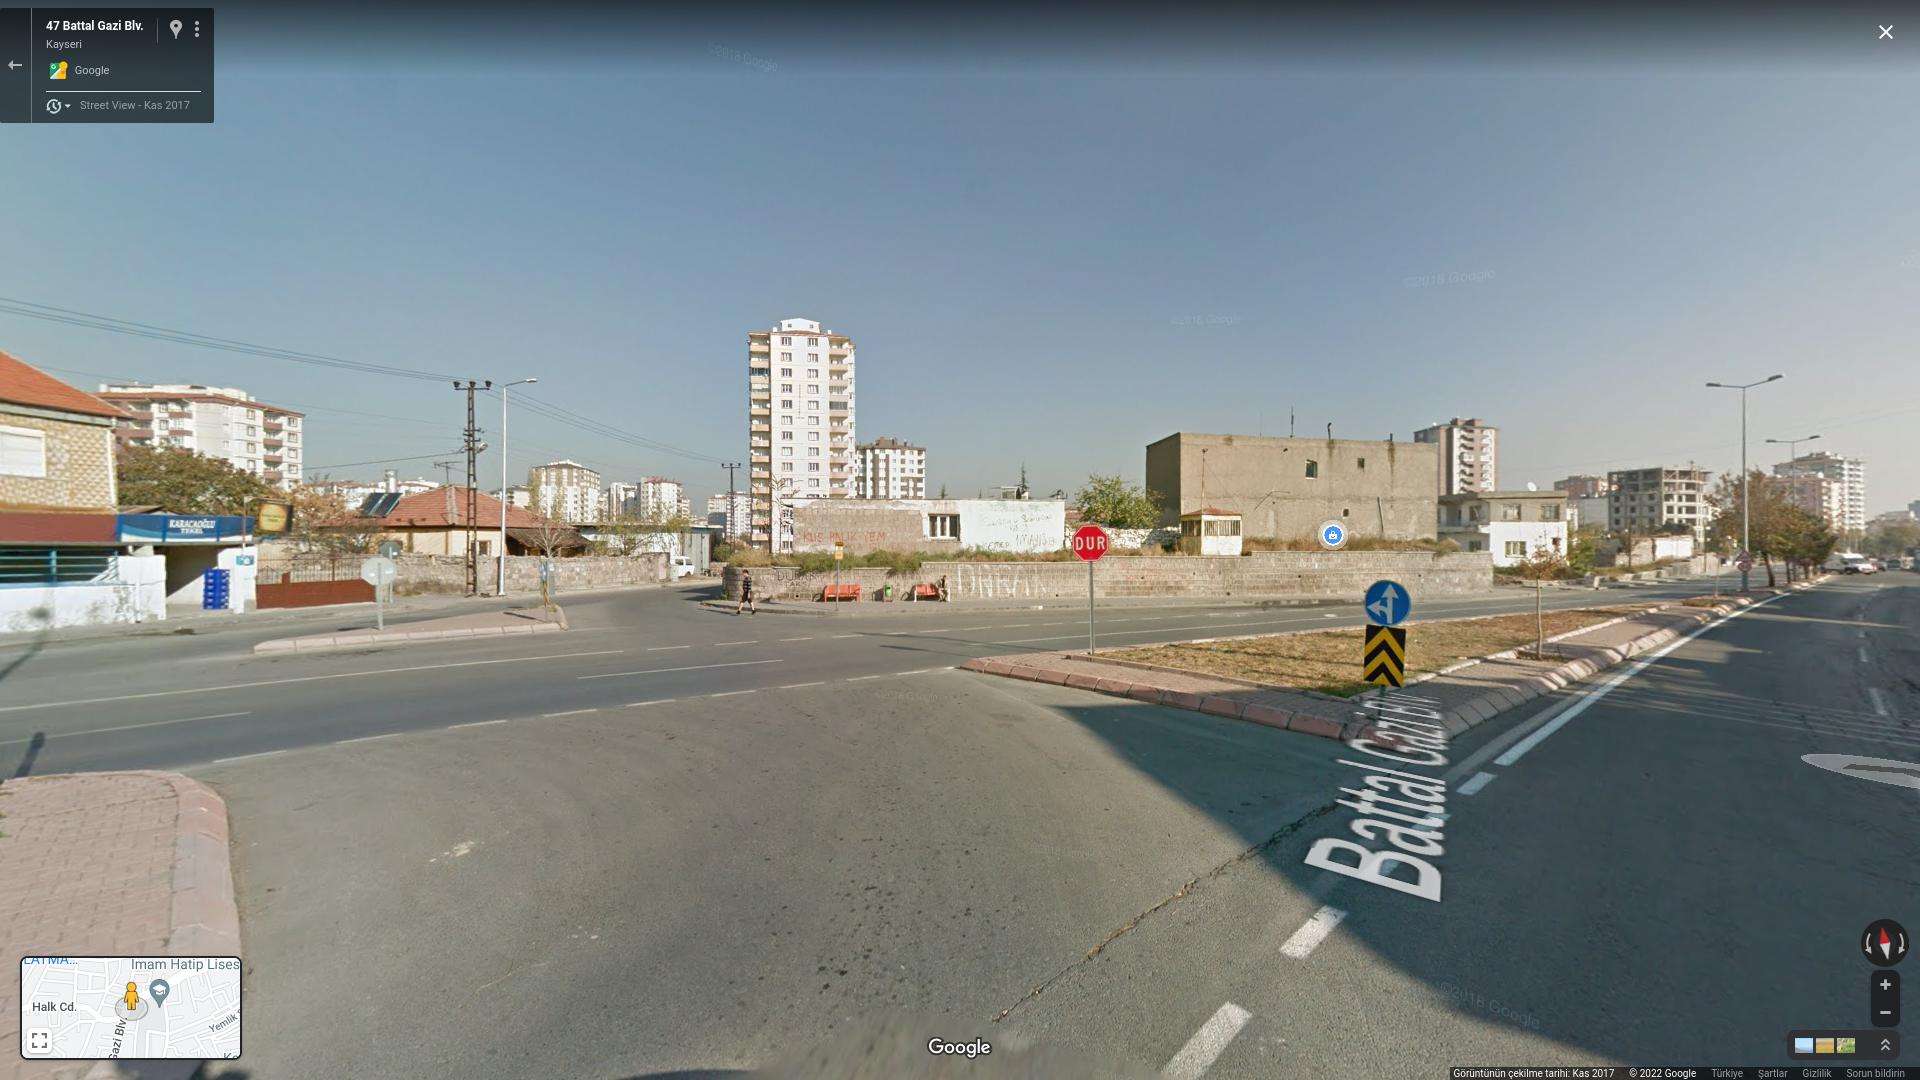stop: (1073, 524, 1108, 562)
